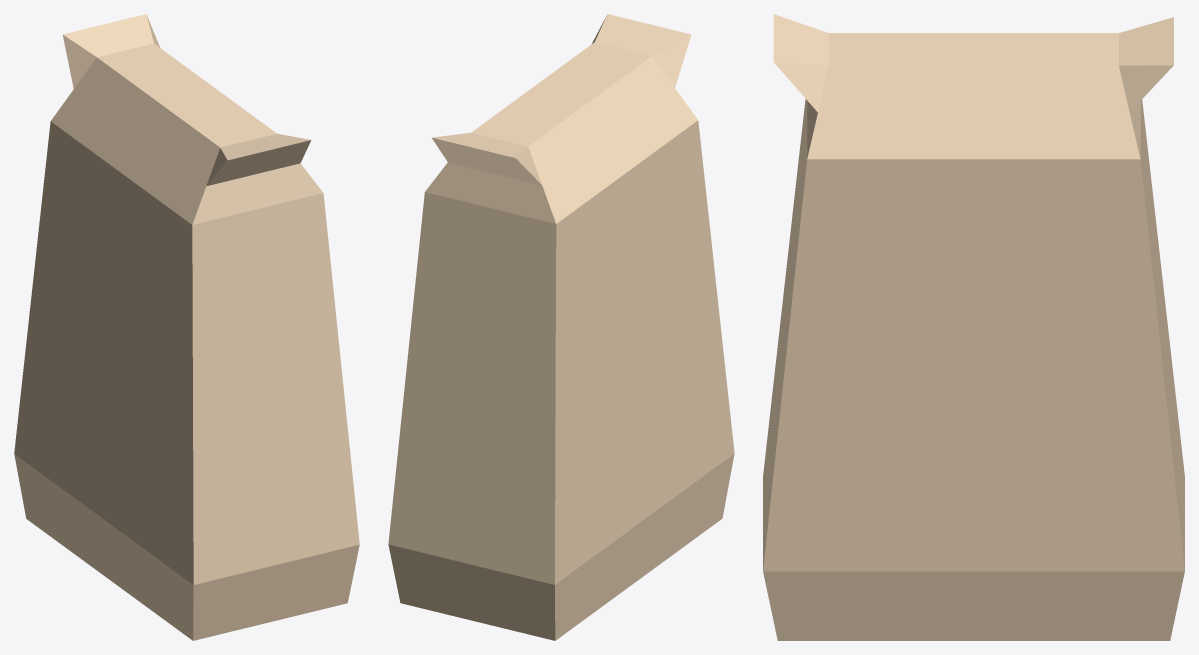
The model's file is bag.glb.
3 renders of one model, left to right at view 1: azimuth 30°, elevation 25°; view 2: azimuth 150°, elevation 25°; view 3: azimuth 270°, elevation 25°, orthographic. The views are drawn at different scales.
Visible parts, largest first — view 1: bag; view 2: bag; view 3: bag.
Boxes of the visible parts, left/top/right/bottom form: bag: left=14, top=14, right=359, bottom=640; bag: left=388, top=14, right=734, bottom=640; bag: left=763, top=14, right=1184, bottom=640.
Size of the model in its own units: 0.22 by 0.5998 by 0.4117.
